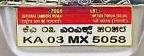0: (100, 34, 109, 43), (46, 35, 54, 42)
3: (55, 35, 64, 42)
5: (108, 33, 117, 43), (91, 34, 100, 43)
8: (117, 34, 126, 43)
A: (32, 35, 43, 43)
K: (22, 35, 32, 43)
M: (67, 34, 78, 43)
X: (78, 34, 89, 43)
